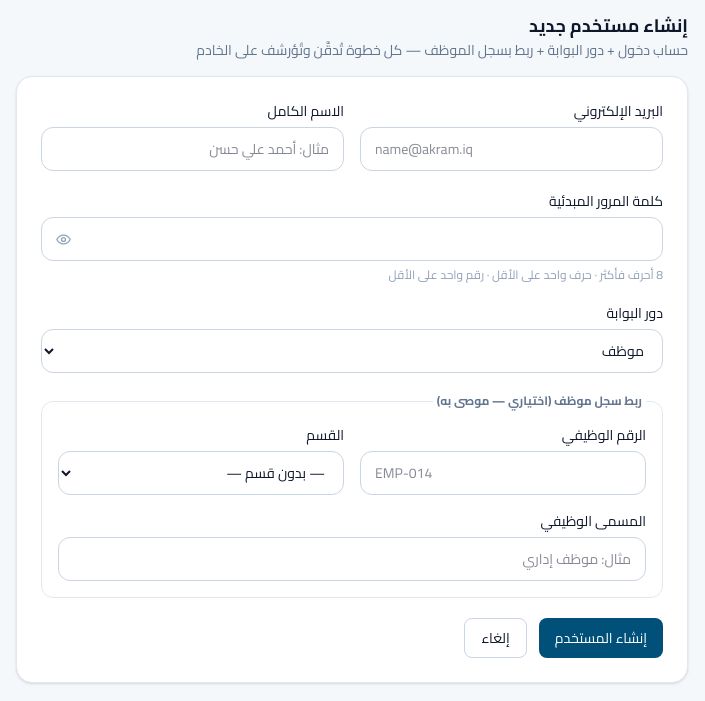
it: CreateUser — إنشاء مستخدم › يرفض كلمة مرور بلا أرقام — بلا اتصال
The width and height of the screenshot is (705, 701).
In the field labelled "البريد الإلكتروني": (512, 149) [360,127,663,171], type "new@akram.iq"
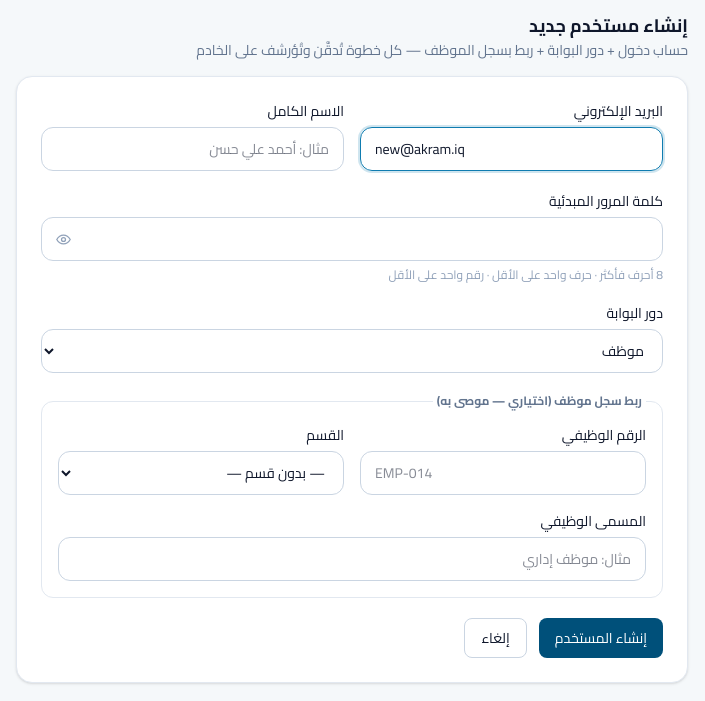
In the field labelled "الاسم الكامل": (192, 149) [41,127,344,171], type "علي حسن"
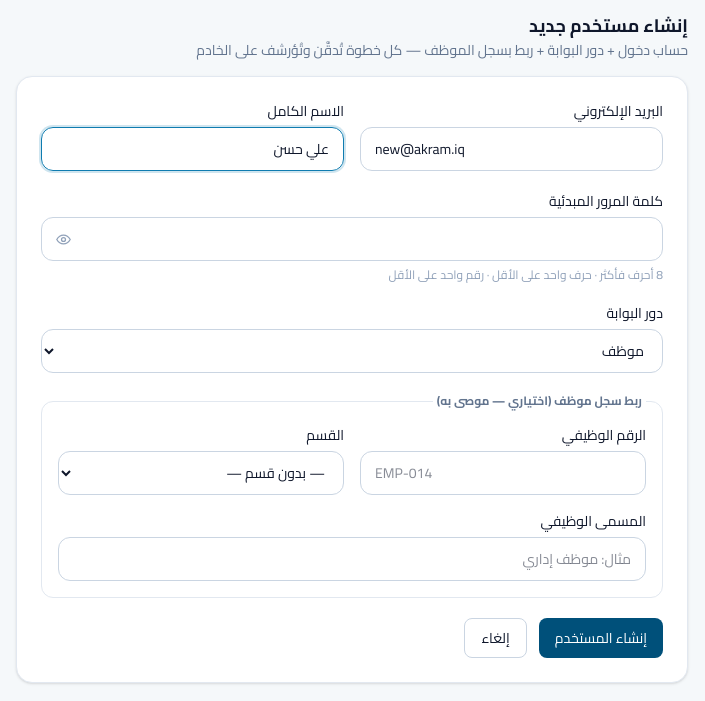
In the password field labelled "كلمة المرور المبدئية": (352, 239) [41,217,663,261], type "Abcdefgh"
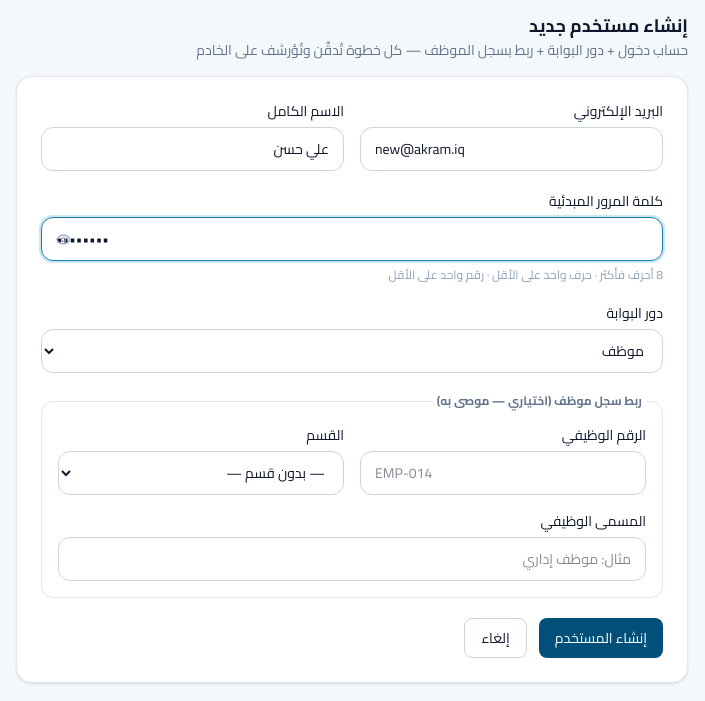
Click the button with test id "create-submit": (601, 638) [539,618,663,658]
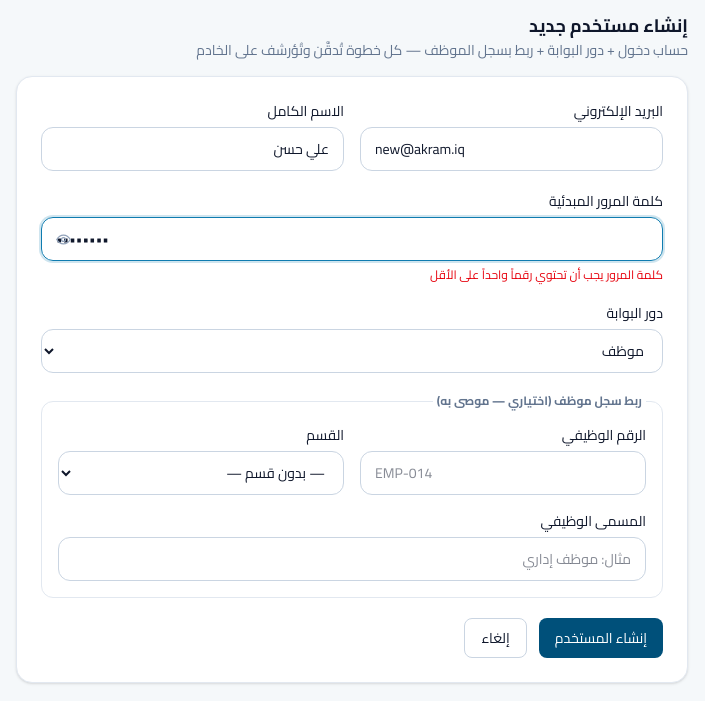
Expected: the message "كلمة المرور يجب أن تحتوي رقماً واحداً على الأقل" is shown, [430,263,663,286]
